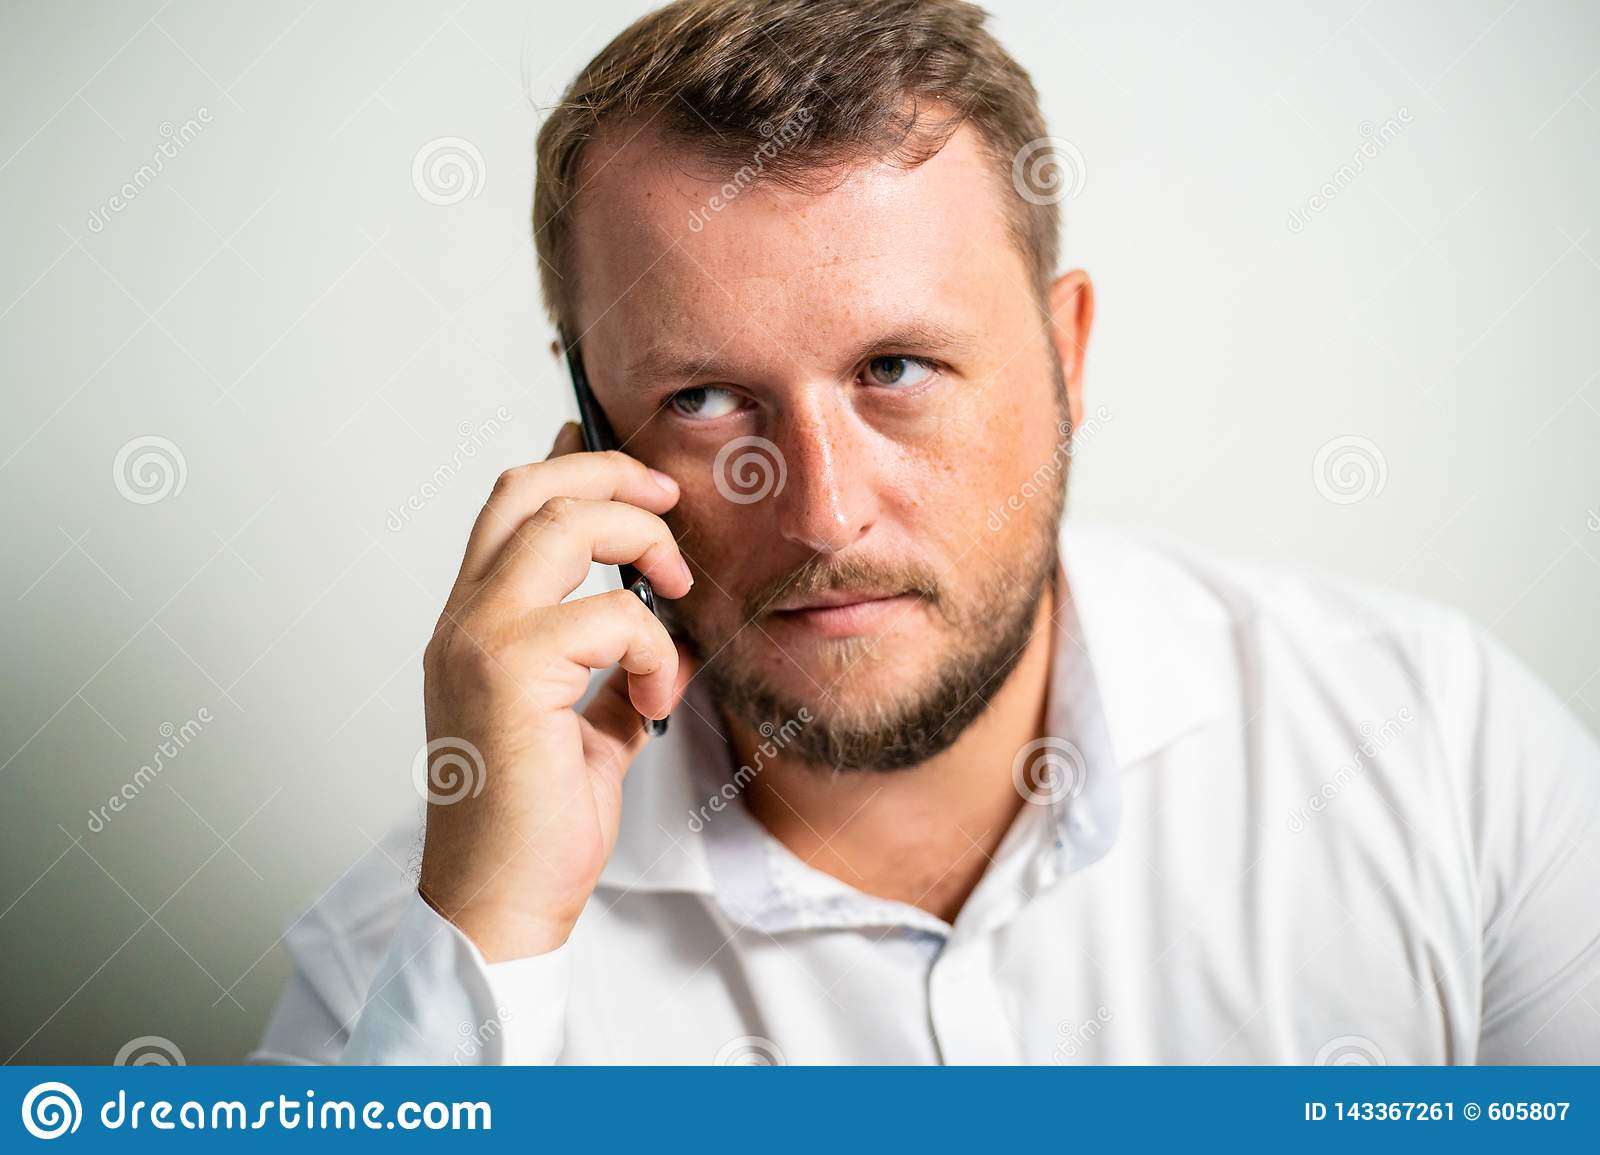phone: (540, 303, 687, 744)
talk: (415, 246, 993, 915)
